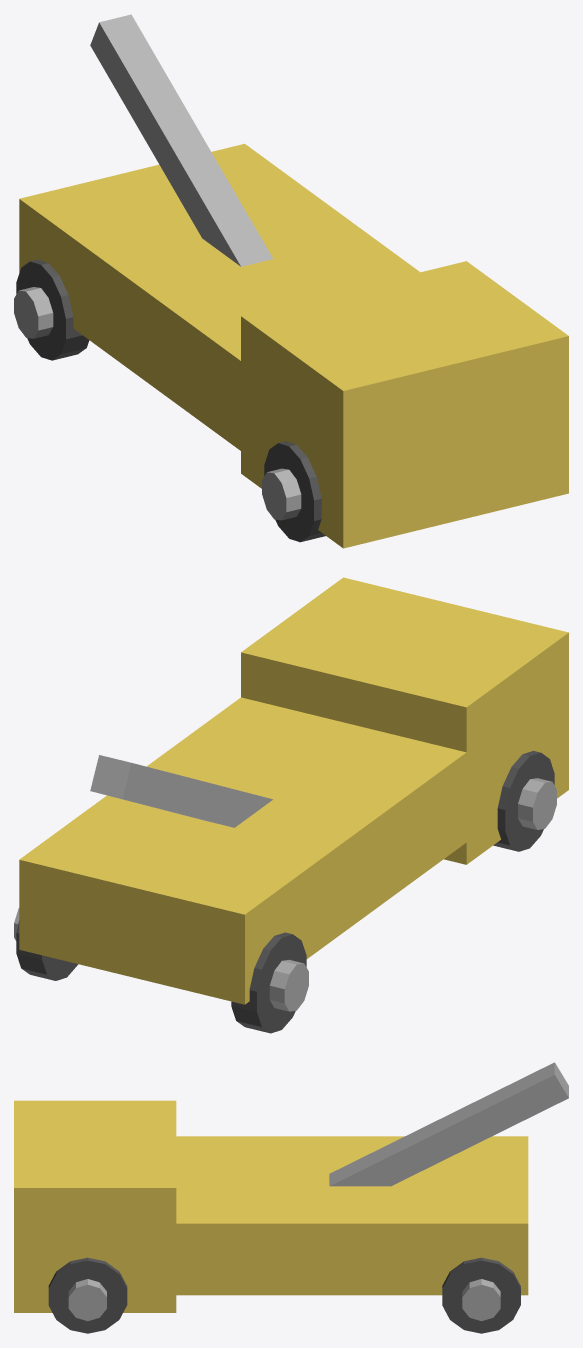
Rendered from tow_truck.glb.
3 renders of one model, top to bottom at view 1: azimuth 30°, elevation 25°; view 2: azimuth 150°, elevation 25°; view 3: azimuth 270°, elevation 25°, orthographic. The views are drawn at different scales.
Visible parts, largest first — view 1: cab, cargo, boom, wheel_rr, wheel_fr, hub_-1_1, hub_-1_-1; view 2: cargo, cab, boom, wheel_rr, wheel_fr, hub_-1_-1, hub_-1_1, wheel_rl; view 3: cargo, cab, boom, wheel_fl, wheel_rl, hub_1_-1, hub_1_1.
Boxes of the visible parts, x1,y1,x2,y2 form: cab: [241, 261, 568, 548]; cargo: [19, 143, 419, 462]; boom: [90, 14, 273, 266]; wheel_rr: [16, 259, 89, 360]; wheel_fr: [264, 441, 325, 542]; hub_-1_1: [262, 468, 301, 520]; hub_-1_-1: [14, 287, 53, 338]; cargo: [19, 697, 466, 1004]; cab: [241, 577, 568, 864]; boom: [90, 755, 272, 827]; wheel_rr: [231, 932, 306, 1033]; wheel_fr: [493, 751, 554, 851]; hub_-1_-1: [269, 959, 308, 1011]; hub_-1_1: [518, 778, 556, 829]; wheel_rl: [16, 920, 78, 980]; cargo: [149, 1136, 528, 1295]; cab: [14, 1100, 176, 1312]; boom: [329, 1062, 568, 1186]; wheel_fl: [48, 1257, 127, 1333]; wheel_rl: [442, 1257, 520, 1333]; hub_1_-1: [462, 1279, 500, 1321]; hub_1_1: [68, 1279, 106, 1321].
Size of the model in its own units: 2.52 by 2.45 by 5.64.
